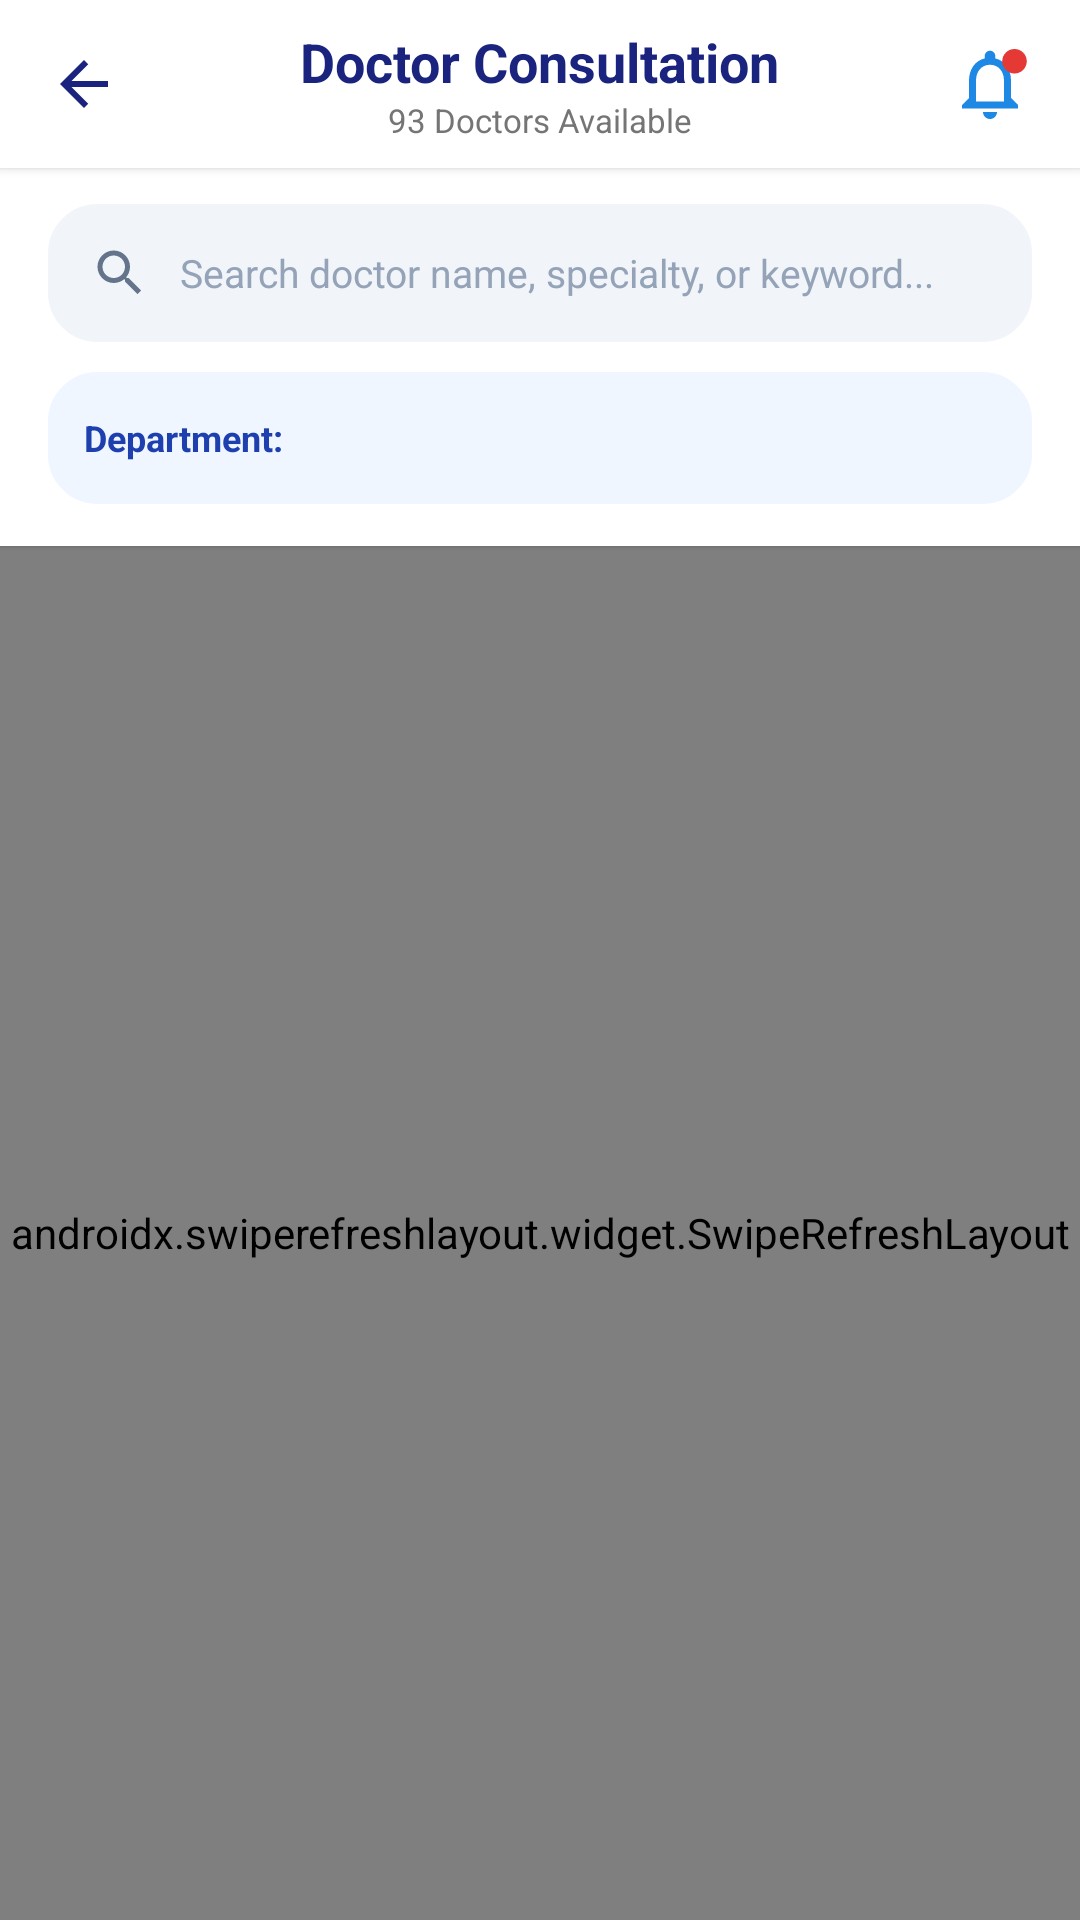

Icon bounding boxes for this 1080×1920 phone screenshot, format Rect(x1, y1, x2, y2):
back arrow: Rect(60, 60, 108, 108)
notification bell: Rect(962, 49, 1027, 119)
